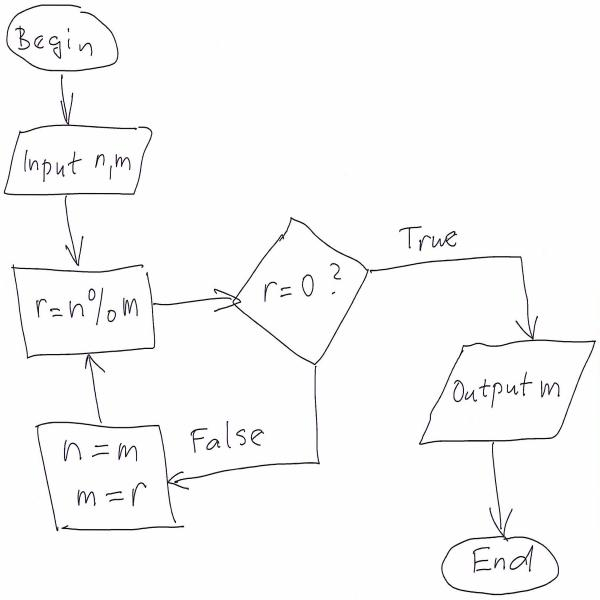arrow: (370, 252, 550, 340), (166, 447, 336, 508), (474, 436, 523, 536), (143, 282, 247, 322), (75, 350, 121, 425), (54, 188, 91, 270), (50, 69, 87, 127)
data: (30, 409, 186, 540), (421, 337, 591, 450), (4, 258, 161, 362)
decision: (236, 216, 368, 370)
process: (6, 120, 163, 208)
terminator: (2, 1, 130, 75), (442, 536, 562, 599)
text: (51, 432, 162, 514), (29, 278, 142, 338), (15, 136, 135, 189), (450, 368, 565, 415), (190, 415, 287, 463), (261, 267, 349, 317), (15, 15, 103, 64), (394, 213, 475, 266), (463, 541, 541, 580)
